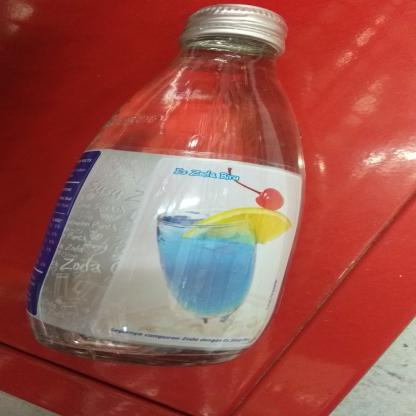bottle: (26, 0, 308, 363)
